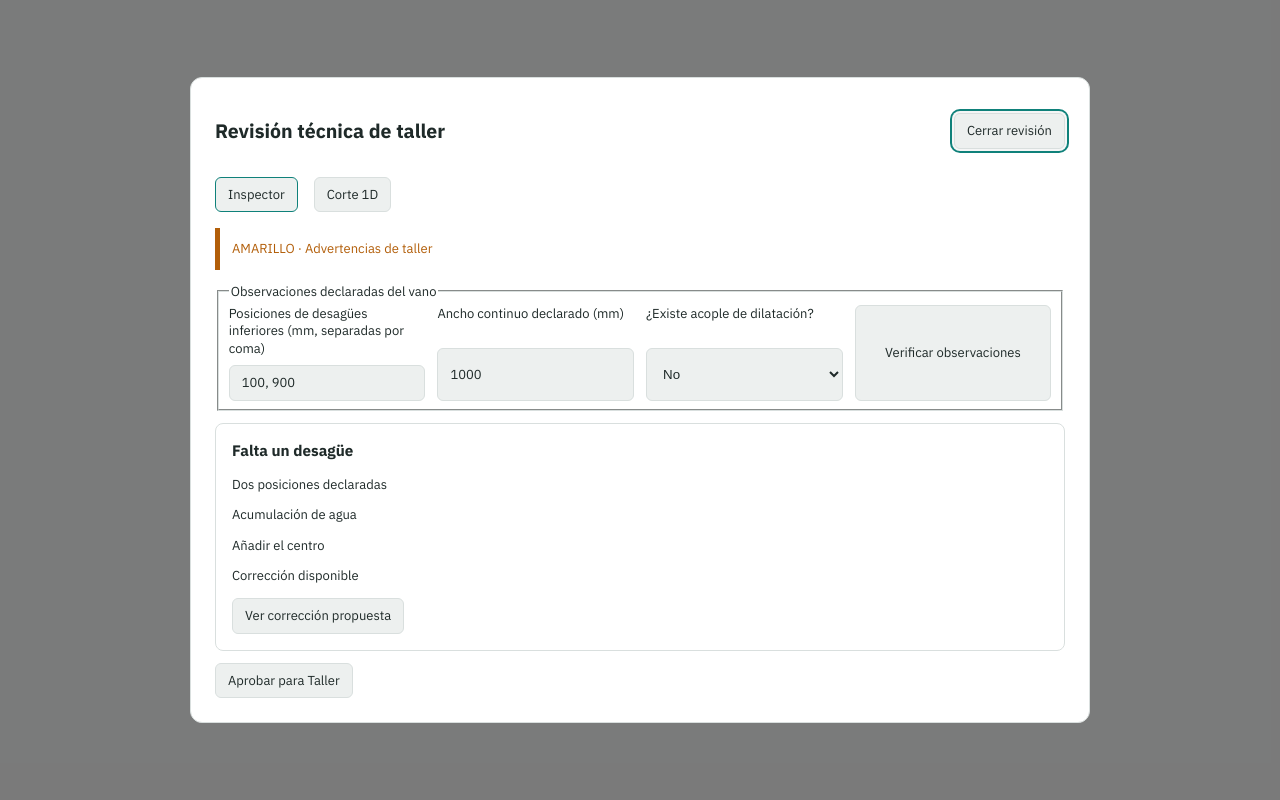
SHOT-07 transactional modal › previews without mutation, applies calculate then inspect, commits once and recomputes green
This screenshot has width=1280, height=800.
Click the button "Ver corrección propuesta" at (318, 616), box [232, 598, 404, 634]
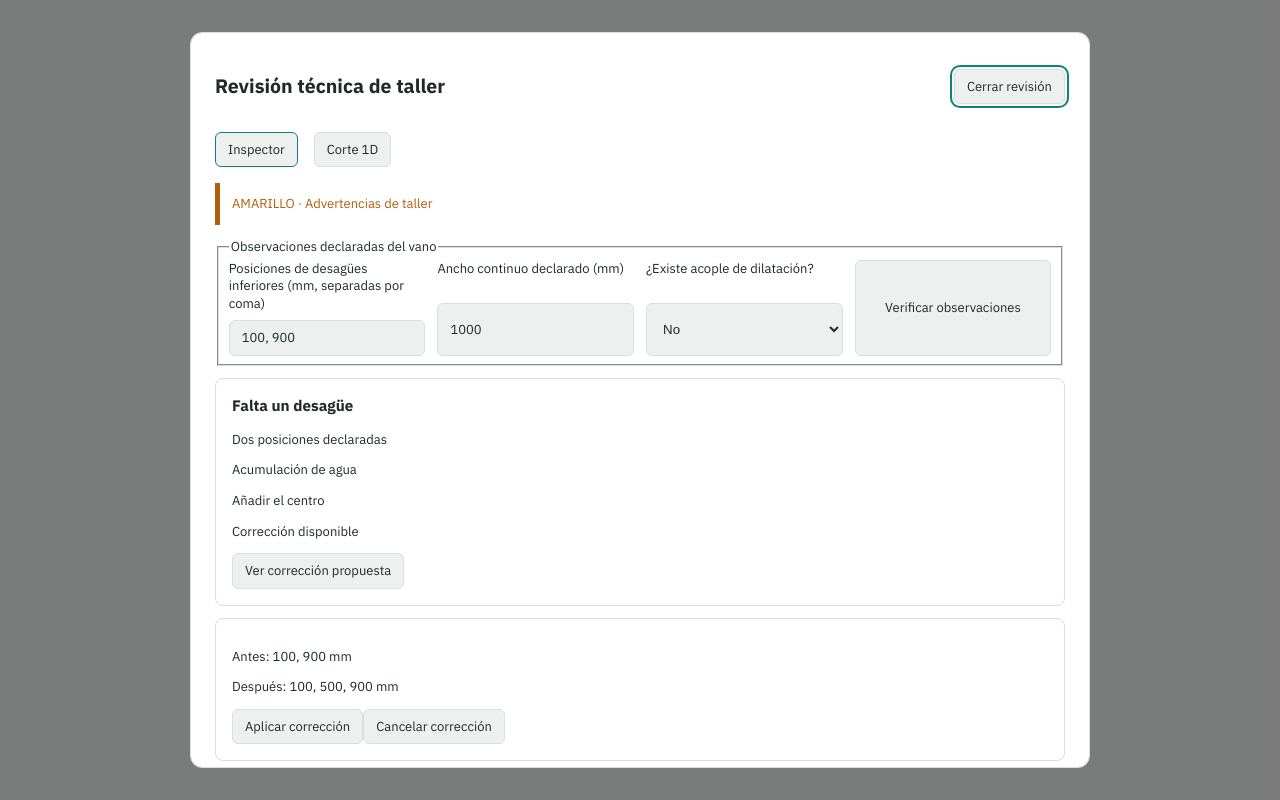
expect the text "Antes: 100, 900 mm" is shown: met, box [232, 648, 352, 665]
expect the text "Después: 100, 500, 900 mm" is shown: met, box [232, 678, 399, 695]
Click the button "Aplicar corrección" at (298, 726), box [232, 709, 363, 744]
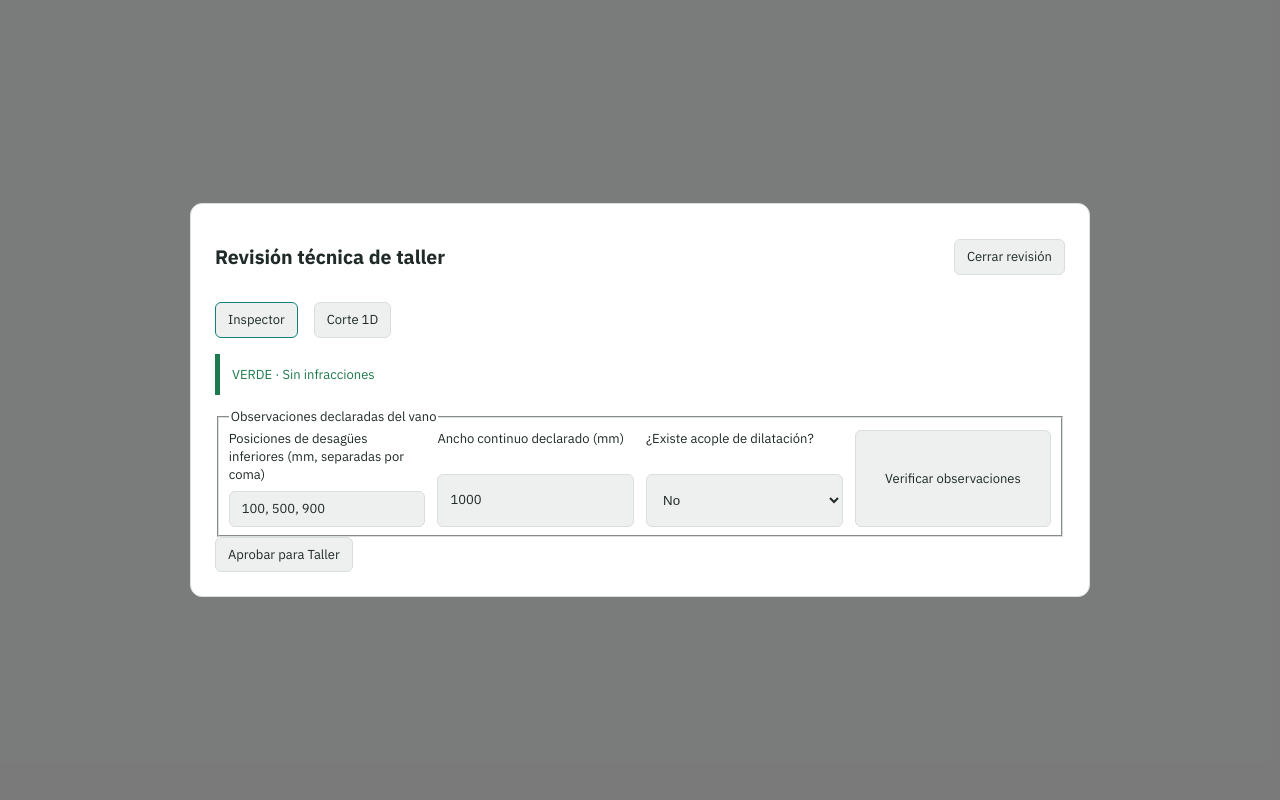
expect the text "VERDE · Sin infracciones" is shown: met, box [215, 354, 1065, 395]
expect the button "Aplicar corrección" is gone: met
expect the button "Aprobar para Taller" is enabled: met, box [215, 537, 353, 572]
